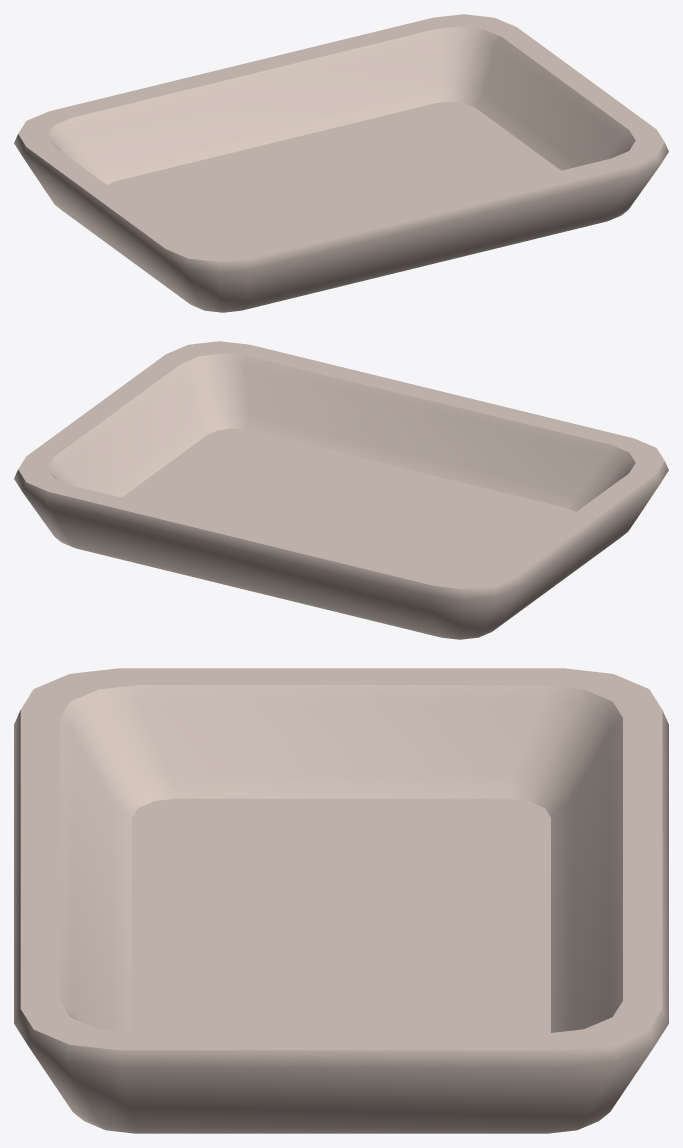
File: Catchall_Tray.fbx
The picture shows the model from 3 angles, top to bottom: view 1: azimuth 30°, elevation 25°; view 2: azimuth 150°, elevation 25°; view 3: azimuth 270°, elevation 25°; orthographic projection. The views are drawn at different scales.
Parts seen in each view (by area): view 1: Catchall_Tray; view 2: Catchall_Tray; view 3: Catchall_Tray.
Boxes of the visible parts, x1,y1,x2,y2 form: Catchall_Tray: (14, 14, 668, 312); Catchall_Tray: (14, 341, 668, 639); Catchall_Tray: (14, 668, 668, 1133).
Bounding box in the file's own units: 0.28 × 0.036 × 0.2.
